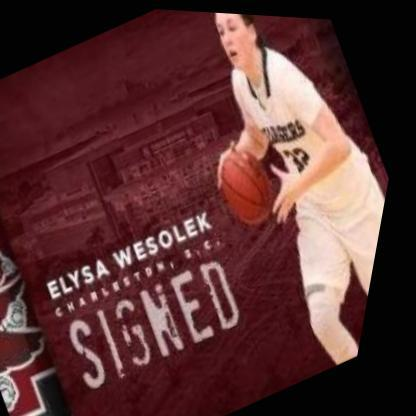basketball: (198, 128, 301, 234)
